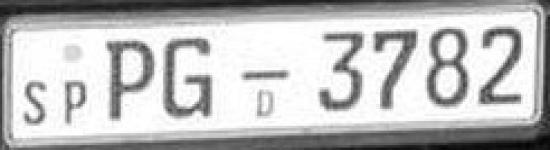-: (238, 66, 296, 88)
2: (475, 21, 528, 112)
3: (313, 30, 369, 114)
7: (372, 25, 422, 117)
8: (422, 23, 476, 115)
G: (159, 32, 219, 125)
P: (99, 34, 158, 125), (58, 73, 91, 130)
S: (20, 77, 50, 128)
